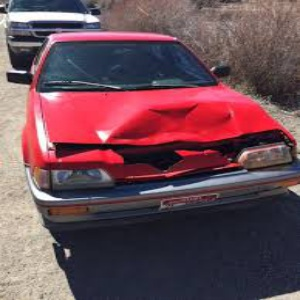bonnet: (84, 87, 249, 139)
